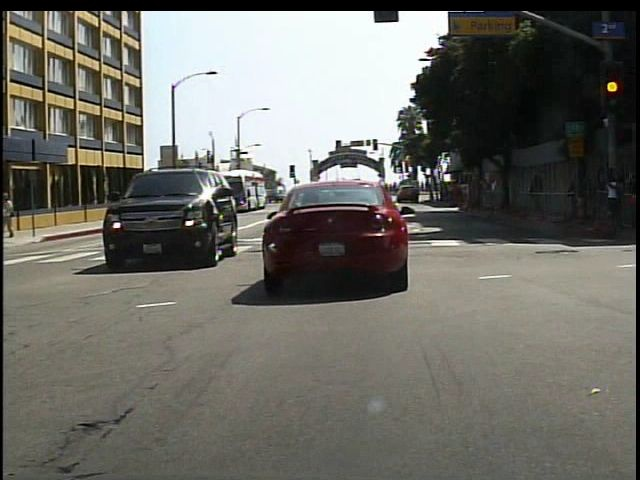person: (5, 190, 19, 239)
